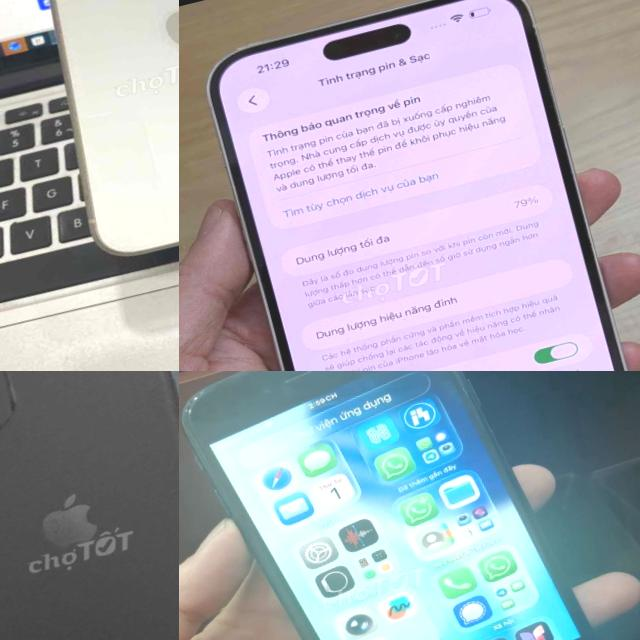gen_11: (3, 0, 179, 277), (0, 371, 179, 640)
gen_14: (179, 0, 640, 371)
gen_7_8: (179, 371, 629, 640)
scratch: (180, 388, 210, 426), (0, 371, 25, 415)
